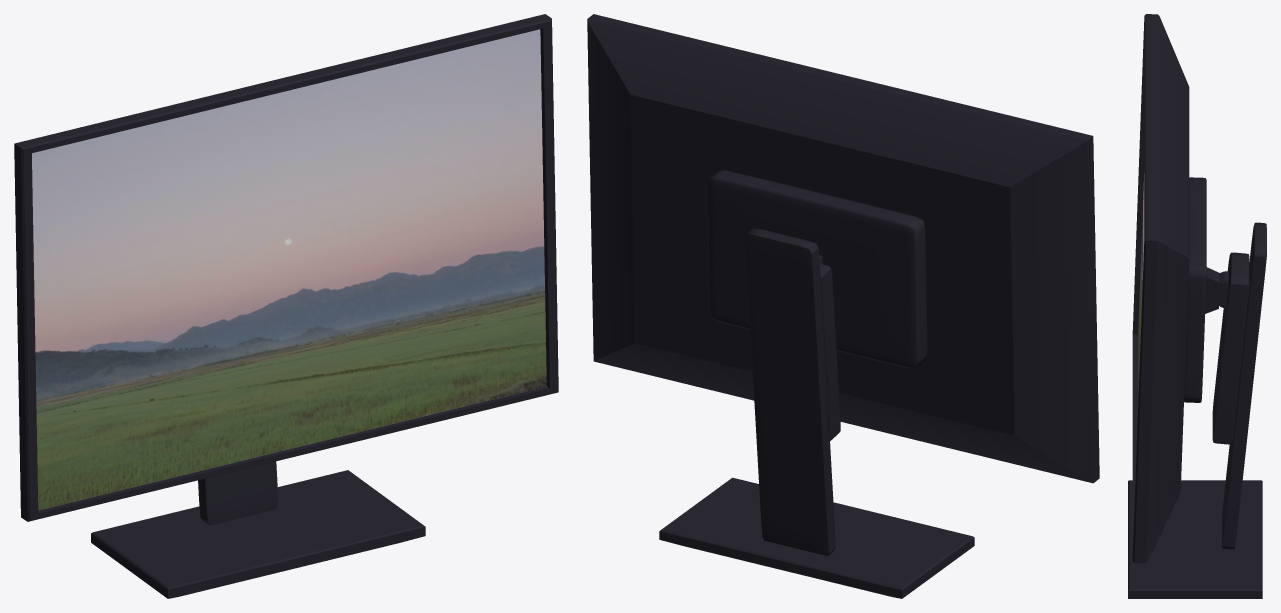
Rendered from Monitor.glb.
3 renders of one model, left to right at view 1: azimuth 30°, elevation 25°; view 2: azimuth 150°, elevation 25°; view 3: azimuth 270°, elevation 25°, orthographic. The views are drawn at different scales.
Parts seen in each view (by area): view 1: Monitor; view 2: Monitor; view 3: Monitor.
Boxes of the visible parts, x1,y1,x2,y2 form: Monitor: [14, 14, 558, 598]; Monitor: [587, 14, 1099, 598]; Monitor: [1128, 14, 1266, 598].
Bounding box in the file's own units: 0.6524 × 0.5686 × 0.169.
Materials: 2 (1 with a texture image).
